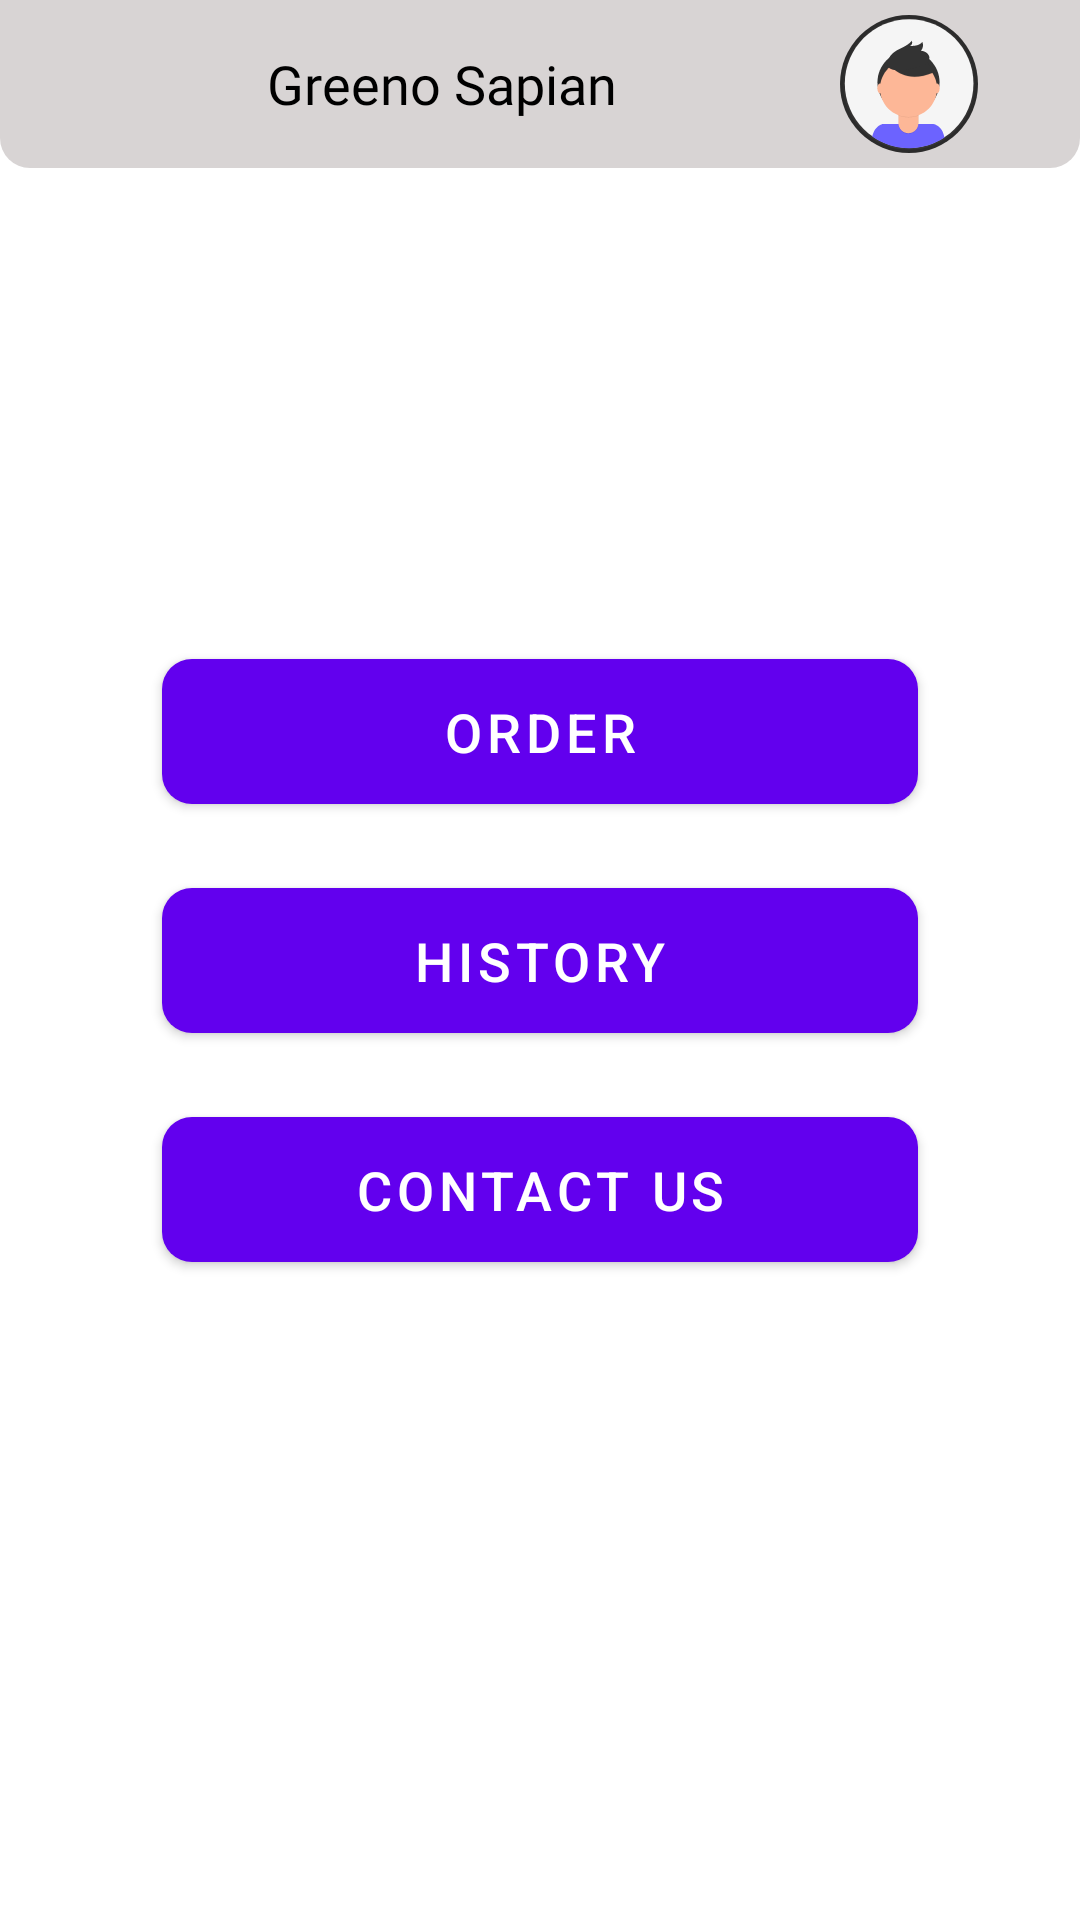

Named icons in this screenshot (1080px×1920px) and their centers, point (x, y):
profile pic simple: point (909, 84)
